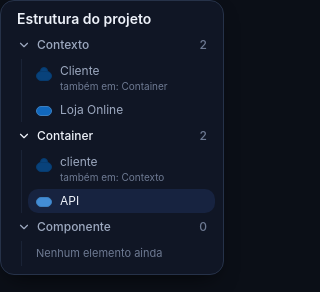
Test: ElementTree › deve recolher e reabrir uma pasta
The image size is (320, 292).
Step 1. Click the button with aria-label "Contexto (2)" → (112, 45), box [9, 31, 215, 59]
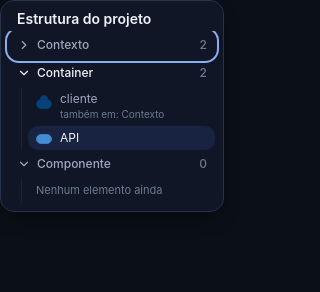
Now the button with aria-label "Contexto (2)" is collapsed
Step 2. Click the button with aria-label "Contexto (2)" → (112, 45), box [9, 31, 215, 59]
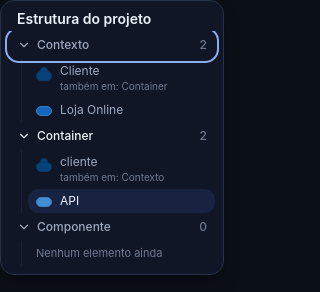
Now the list named "Elementos de Contexto" is shown, box [21, 59, 215, 122]
